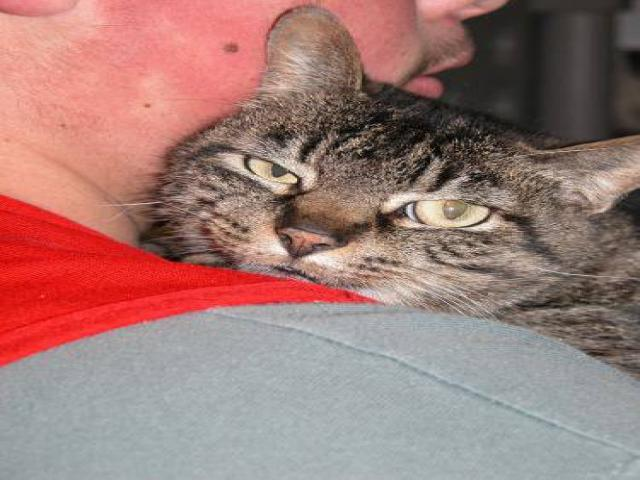cat: (148, 13, 636, 348)
